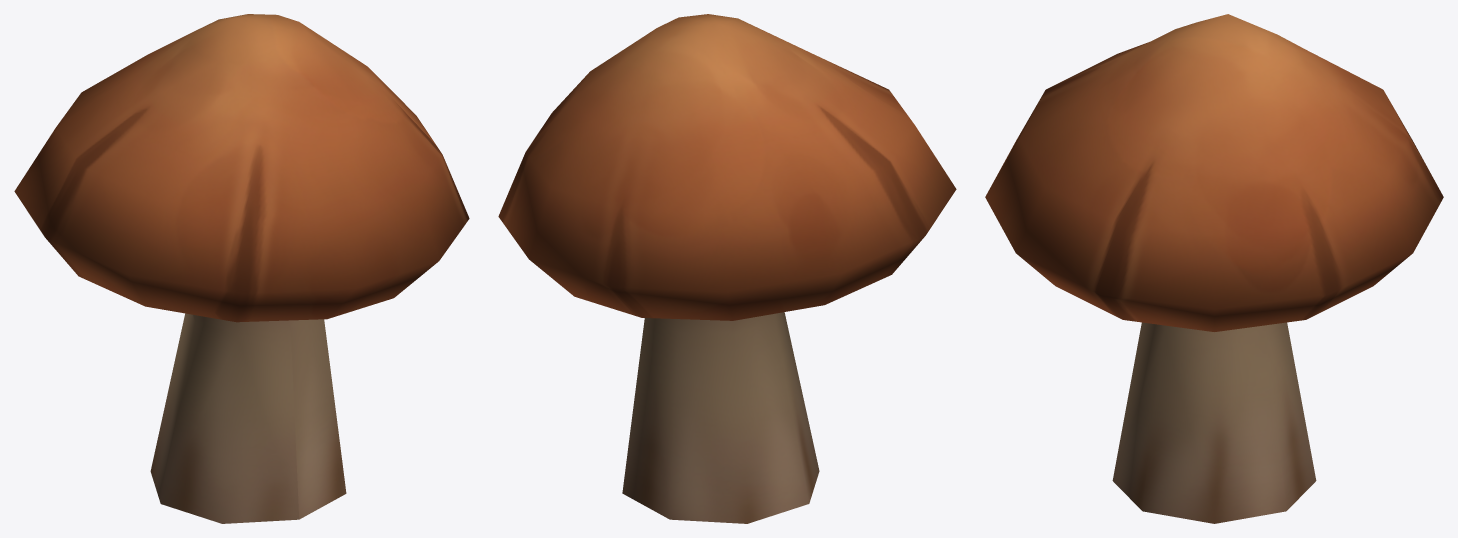
Rendered from Mushroom_3.FBX.
3 renders of one model, left to right at view 1: azimuth 30°, elevation 25°; view 2: azimuth 150°, elevation 25°; view 3: azimuth 270°, elevation 25°, orthographic.
Parts seen in each view (by area): view 1: Mushroom_3; view 2: Mushroom_3; view 3: Mushroom_3.
Boxes of the visible parts, x1,y1,x2,y2 form: Mushroom_3: (14, 14, 469, 523); Mushroom_3: (498, 14, 956, 523); Mushroom_3: (985, 14, 1443, 523).
Size of what is drawn, in the model's own units: 66.08 by 66.34 by 73.89.
